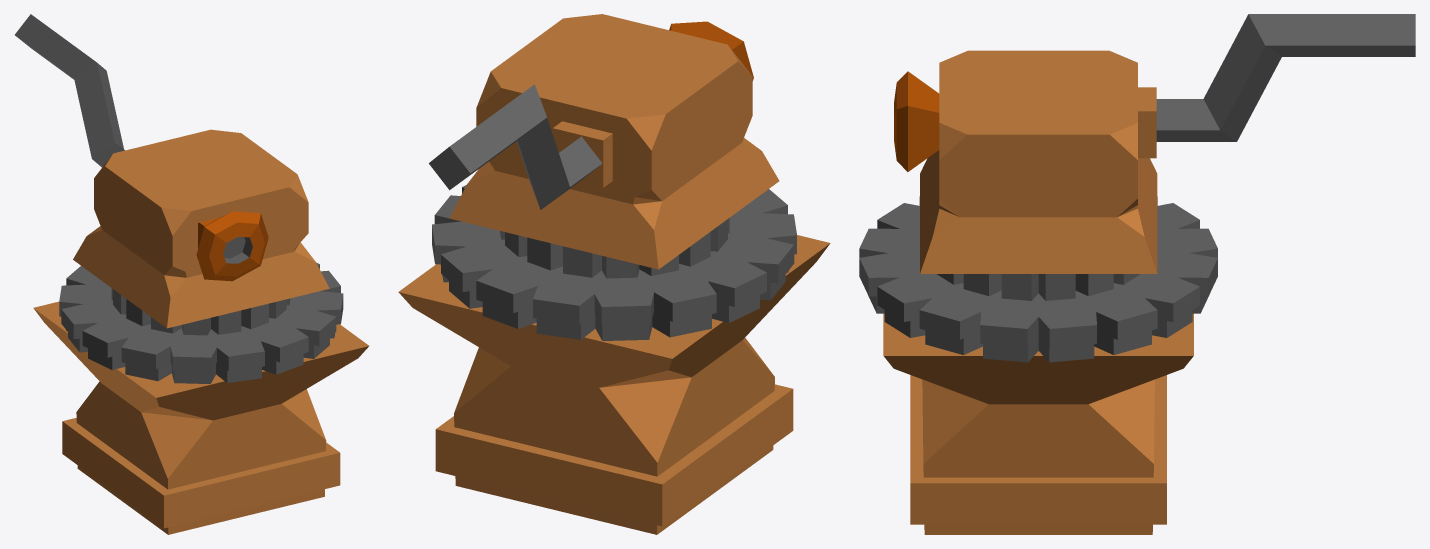
The model's file is tower1Lvl2.fbx.
3 views of the same model, side by side, from view 1: azimuth 30°, elevation 25°; view 2: azimuth 150°, elevation 25°; view 3: azimuth 270°, elevation 25° (orthographic). The views are drawn at different scales.
Parts seen in each view (by area): view 1: Cube.002, Cube.013, Cube.003, Cube.004, Cube.015, Cube.014; view 2: Cube.002, Cube.013, Cube.003, Cube.004, Cube.015, Cube.014; view 3: Cube.013, Cube.002, Cube.003, Cube.015, Cube.004, Cube.014.
Boxes of the visible parts, box(x1,y1,x2,y2) form: Cube.002: box(33, 301, 368, 534); Cube.013: box(73, 129, 329, 328); Cube.003: box(59, 262, 343, 372); Cube.004: box(66, 288, 334, 383); Cube.015: box(15, 14, 124, 167); Cube.014: box(196, 211, 268, 281); Cube.002: box(398, 235, 830, 534); Cube.013: box(449, 14, 779, 269); Cube.003: box(432, 185, 796, 325); Cube.004: box(442, 218, 788, 340); Cube.015: box(429, 84, 602, 209); Cube.014: box(669, 21, 753, 80); Cube.013: box(920, 50, 1157, 273); Cube.002: box(883, 313, 1193, 534); Cube.003: box(859, 196, 1217, 347); Cube.015: box(1156, 14, 1415, 141); Cube.004: box(868, 274, 1208, 362); Cube.014: box(894, 71, 939, 171).
Bounding box in the file's own units: 212 × 300 × 329.
